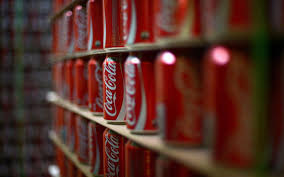can: (94, 52, 128, 134)
